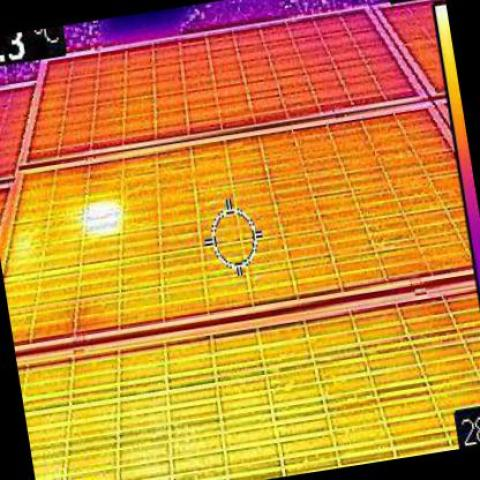fault: (84, 203, 125, 234)
